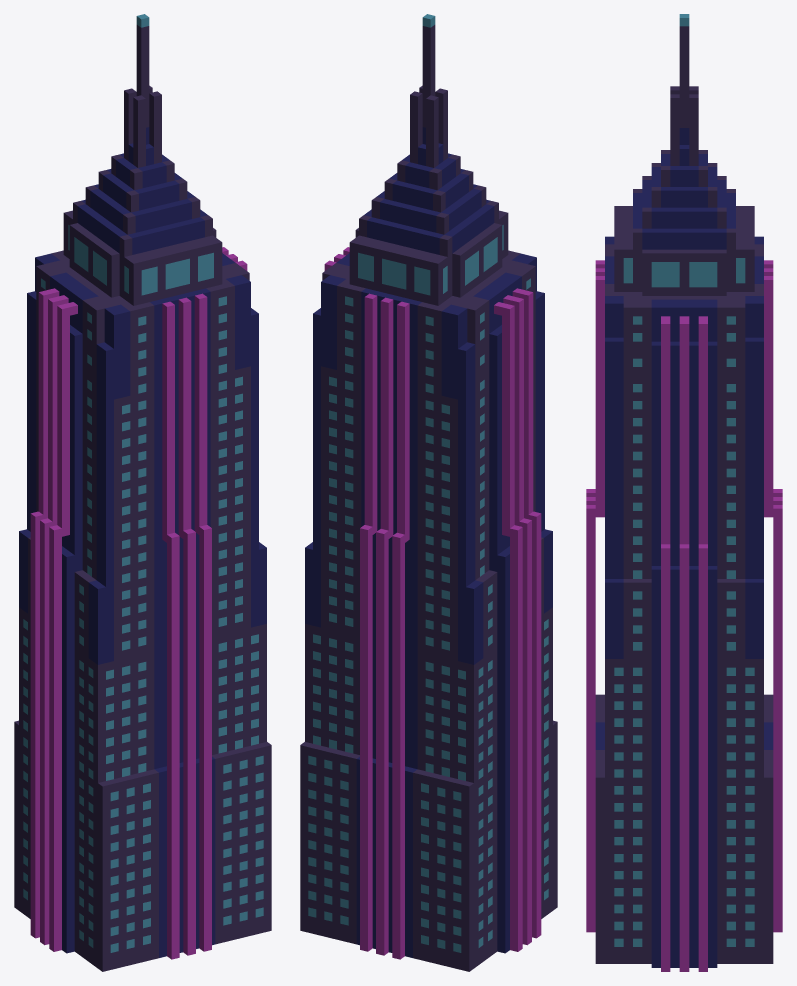
Rendered from skyscraper5.obj.
3 renders of one model, left to right at view 1: azimuth 30°, elevation 25°; view 2: azimuth 150°, elevation 25°; view 3: azimuth 270°, elevation 25°, orthographic.
Bounding box in the file's own units: 2.5 × 10.7 × 2.1.
1 material, 1 textured.
